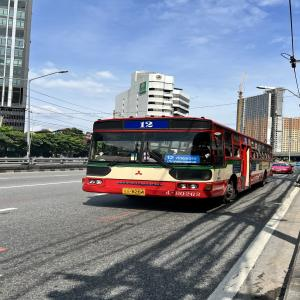BMTA-bus: (82, 117, 274, 204)
Bus Line Number: (130, 120, 164, 130)
Bus Side Number: (161, 190, 204, 197)
Destination Sign: (165, 154, 200, 164)
